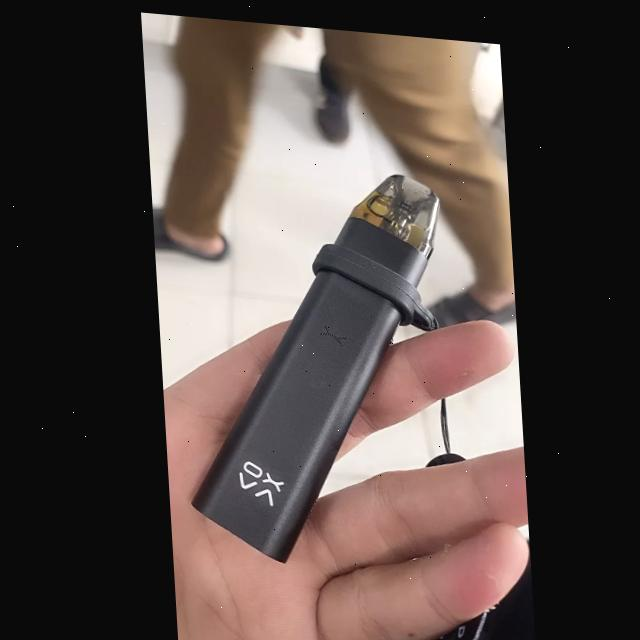vape: (169, 149, 457, 572)
